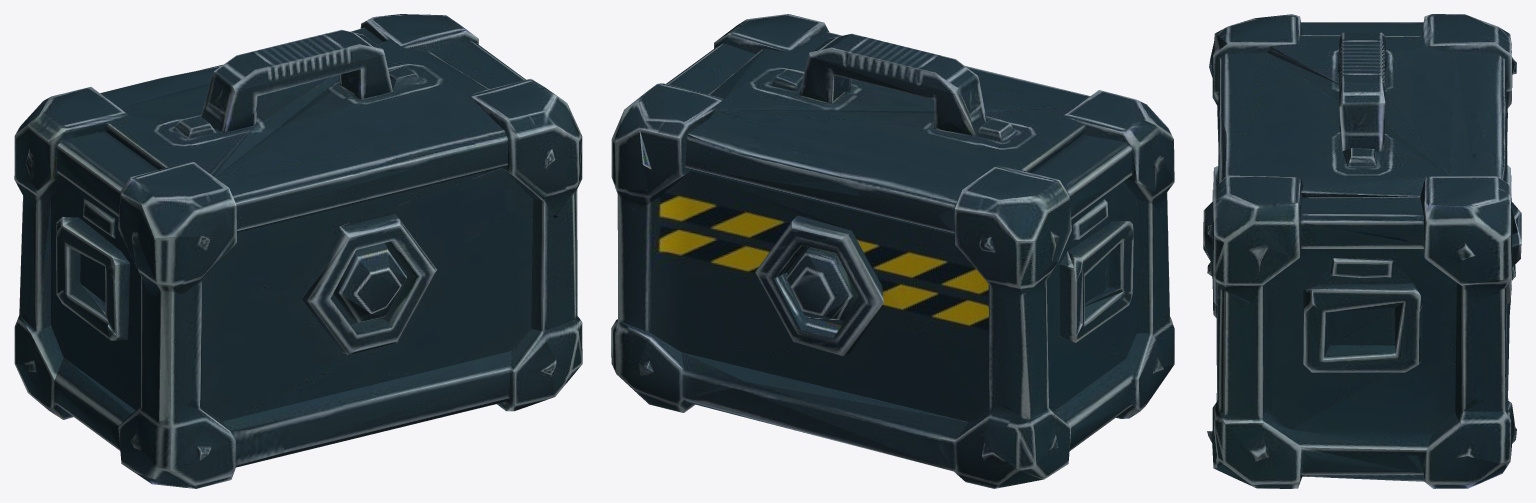
The model's file is BS_Prop_EquipmentLootCase_final.glb.
3 renders of one model, left to right at view 1: azimuth 30°, elevation 25°; view 2: azimuth 150°, elevation 25°; view 3: azimuth 270°, elevation 25°, orthographic. The views are drawn at different scales.
Size of the model in its own units: 1.9 by 1.43 by 1.23.
1 material, 1 textured.
